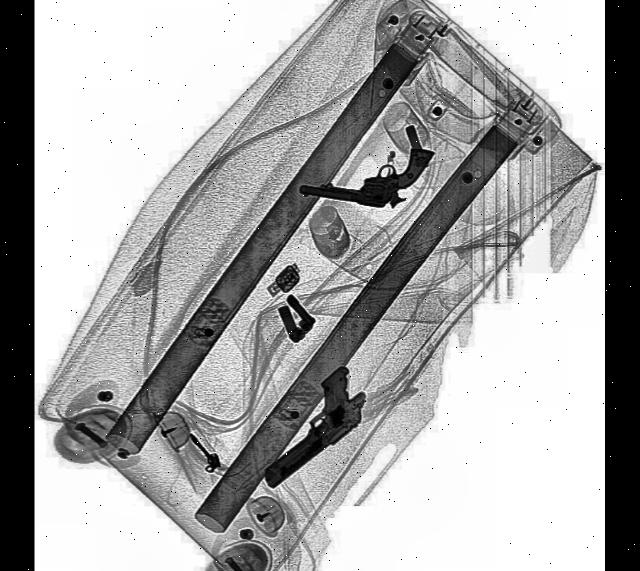Gun: (244, 357, 375, 490), (298, 130, 434, 212)
